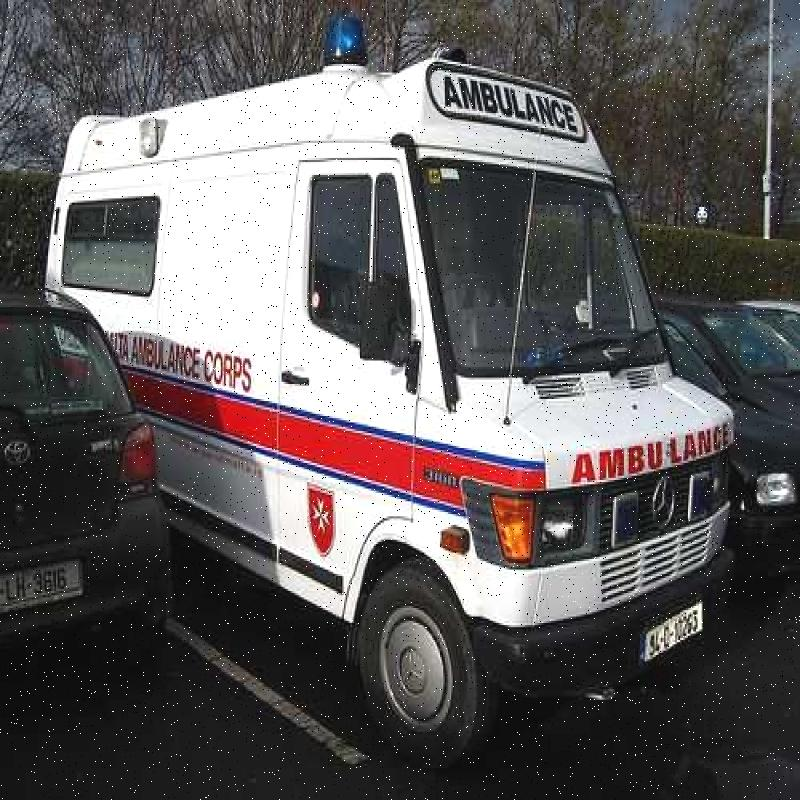AmbulanceSiren: (313, 8, 372, 78)
